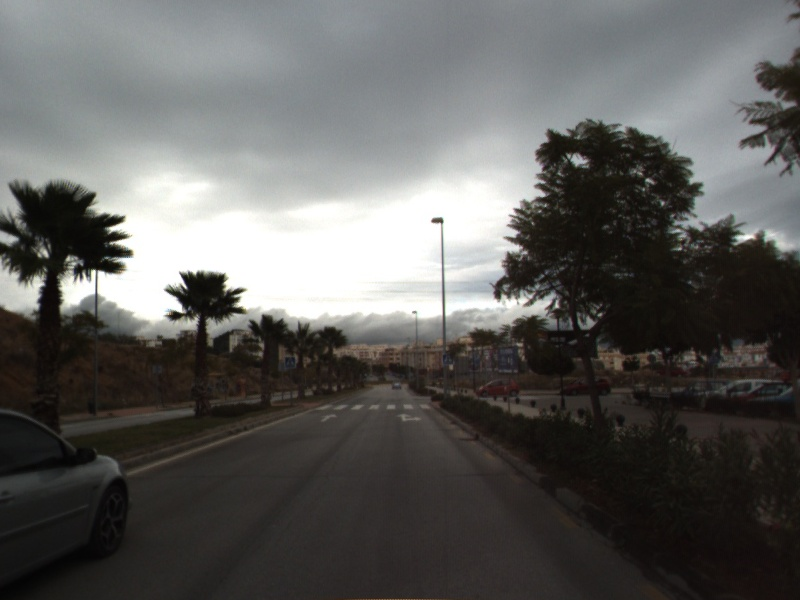STRAIGHT: (318, 411, 339, 424)
STRAIGHT_RIGHT: (394, 411, 424, 423)
